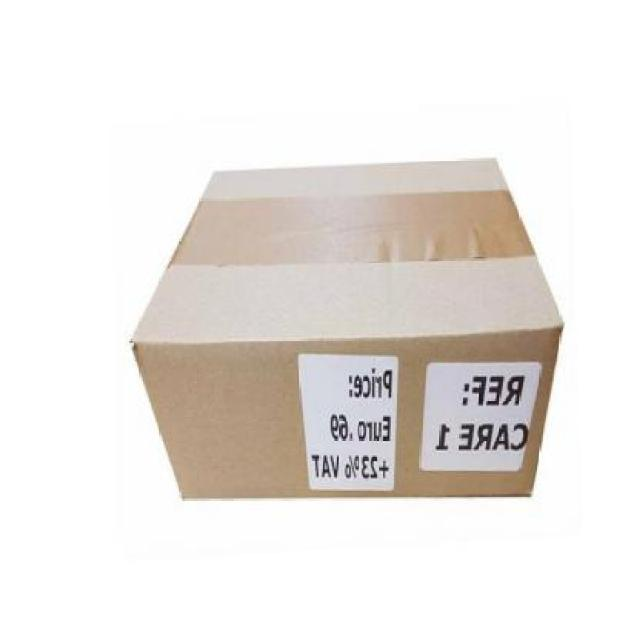cardboxes: (131, 156, 564, 496)
